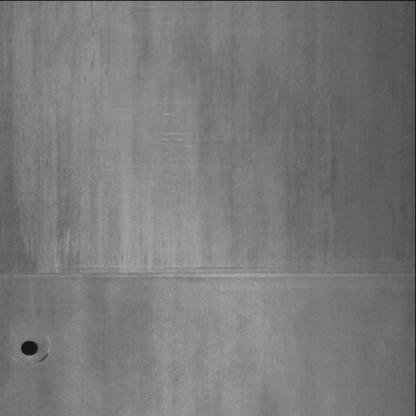punching_hole: (18, 334, 40, 360)
welding_line: (2, 253, 414, 290)
